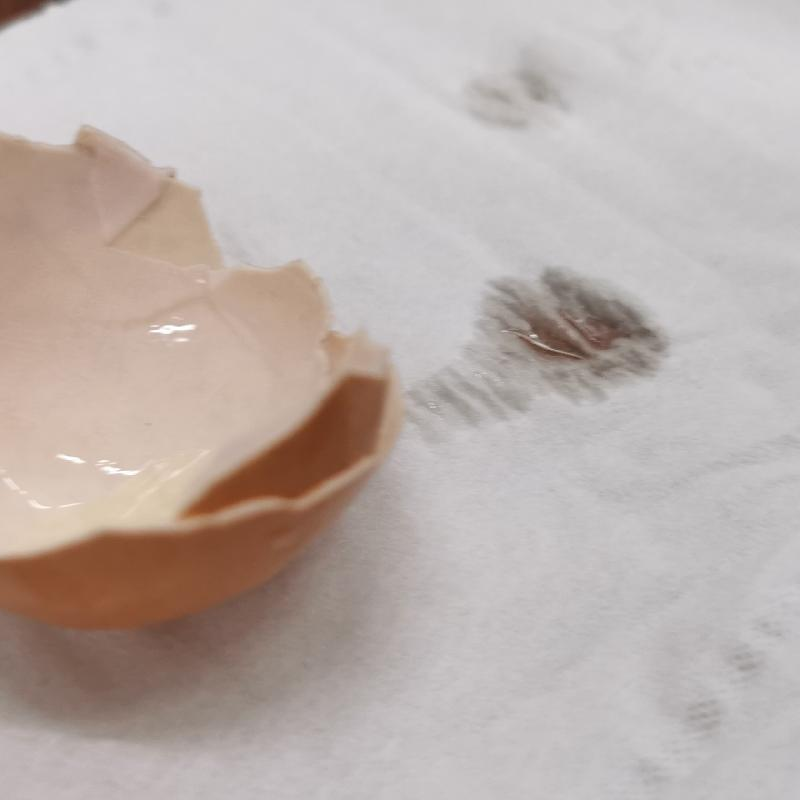eggshell: (2, 119, 401, 629)
